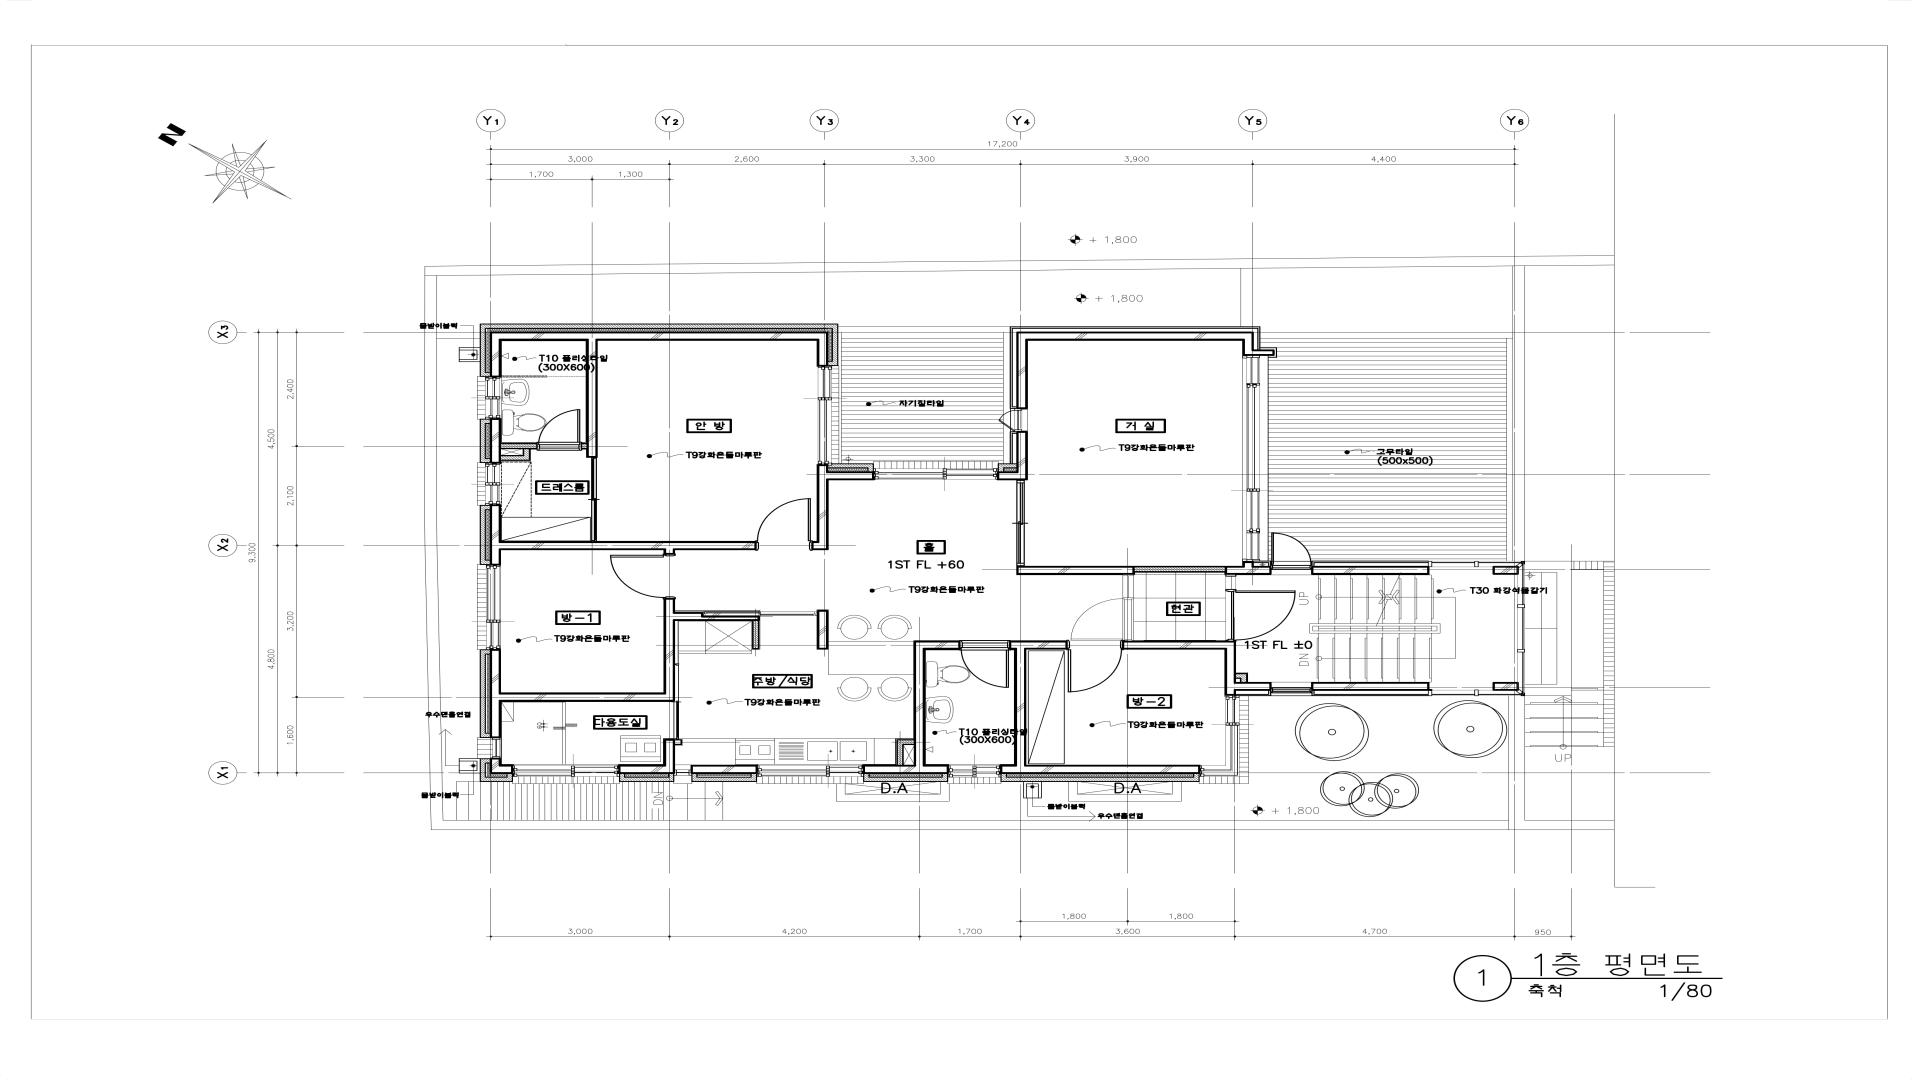door: (1225, 589, 1295, 641), (609, 554, 675, 599), (756, 497, 811, 550), (1067, 641, 1124, 692), (1071, 597, 1134, 641), (959, 641, 1009, 688), (537, 409, 582, 451), (1271, 533, 1312, 570), (671, 663, 683, 745), (675, 611, 816, 616), (1017, 480, 1025, 566), (998, 409, 1027, 431), (591, 458, 597, 541)
wall: (501, 331, 828, 342), (501, 541, 756, 550), (1027, 331, 1254, 340), (1001, 765, 1200, 774), (501, 692, 663, 703), (914, 640, 926, 765), (585, 342, 597, 458), (1014, 650, 1026, 765), (663, 599, 675, 702), (489, 649, 502, 738), (1311, 566, 1429, 575), (1312, 682, 1429, 691), (1017, 566, 1134, 575), (1122, 641, 1224, 650), (816, 465, 828, 541), (864, 764, 948, 774), (1017, 332, 1027, 409), (675, 612, 760, 621), (489, 505, 501, 564), (1224, 641, 1236, 696), (691, 765, 757, 774), (1134, 566, 1225, 572), (1009, 641, 1068, 650), (489, 331, 501, 376), (618, 765, 675, 774), (1242, 340, 1275, 356), (816, 609, 828, 650), (1015, 431, 1027, 472), (491, 419, 501, 463), (828, 471, 874, 480), (1225, 566, 1271, 575), (489, 758, 513, 774), (926, 640, 959, 650), (1236, 682, 1271, 691), (663, 738, 675, 765), (816, 340, 828, 365), (501, 442, 537, 450), (1122, 575, 1134, 597), (997, 472, 1029, 480), (1493, 682, 1519, 691), (1493, 566, 1519, 575), (752, 621, 760, 650), (811, 541, 828, 550), (895, 745, 903, 765), (501, 455, 522, 462), (895, 738, 914, 745), (1236, 673, 1247, 682), (522, 450, 531, 462), (1242, 560, 1254, 566), (663, 550, 675, 554), (582, 442, 587, 450)
window: (1429, 560, 1524, 696), (1242, 356, 1269, 560), (1200, 696, 1240, 777), (816, 365, 832, 465), (874, 468, 997, 480), (757, 764, 864, 777), (485, 564, 501, 649), (513, 765, 618, 777), (948, 764, 1001, 777), (485, 376, 501, 419), (485, 463, 501, 505), (1271, 682, 1312, 696), (675, 765, 691, 785), (491, 738, 502, 758), (1225, 575, 1237, 589)
